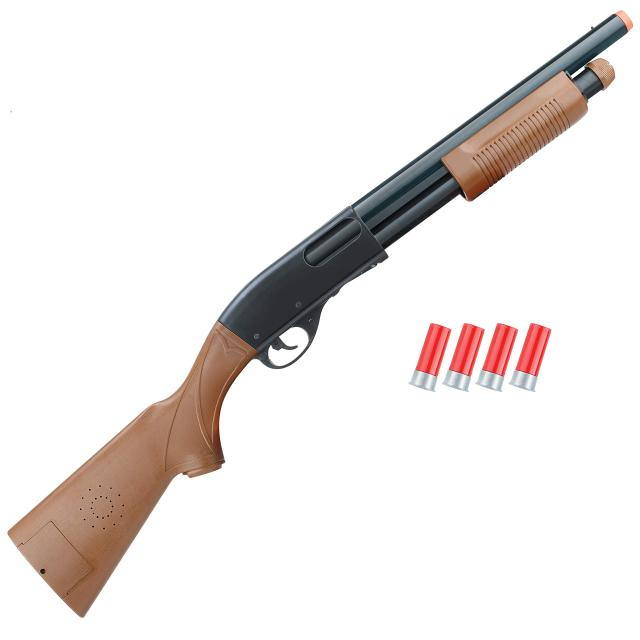ShotGun: (8, 12, 634, 618)
